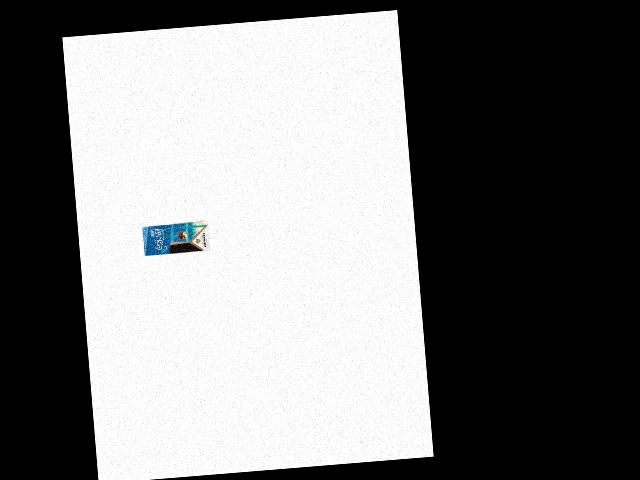chocolate: (141, 219, 212, 258)
